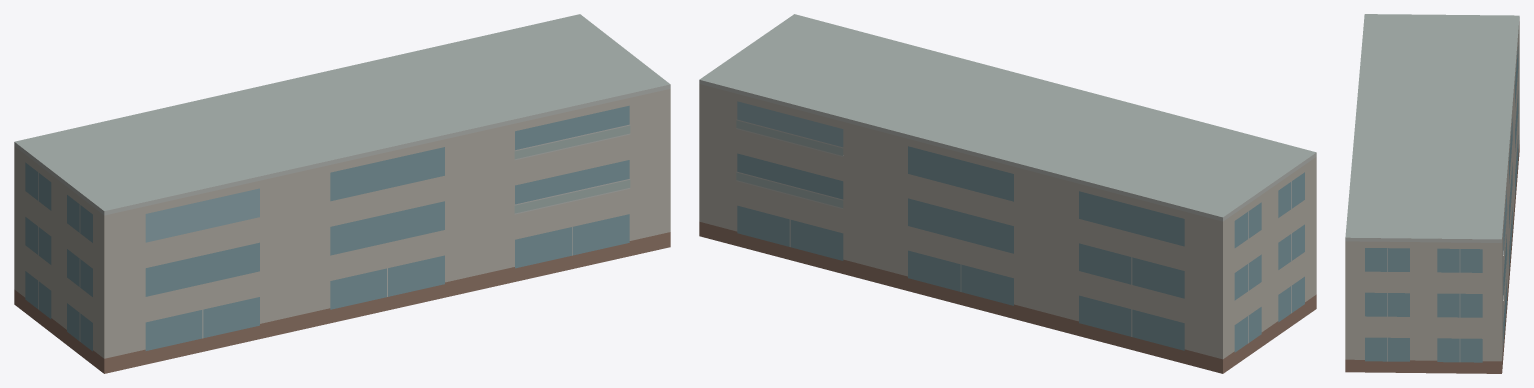
Rendered from survey-upis-32921903.glb.
3 views of the same model, side by side, from view 1: azimuth 30°, elevation 25°; view 2: azimuth 150°, elevation 25°; view 3: azimuth 270°, elevation 25° (orthographic). The views are drawn at different scales.
Parts seen in each view (by area): view 1: survey-upis-32921903.tmp; view 2: survey-upis-32921903.tmp; view 3: survey-upis-32921903.tmp.
Boxes of the visible parts, <box> form: survey-upis-32921903.tmp: <box>14,14,670,373</box>; survey-upis-32921903.tmp: <box>699,14,1316,373</box>; survey-upis-32921903.tmp: <box>1345,14,1519,373</box>.
Bounding box in the file's own units: 32.91 × 9.15 × 10.76.
